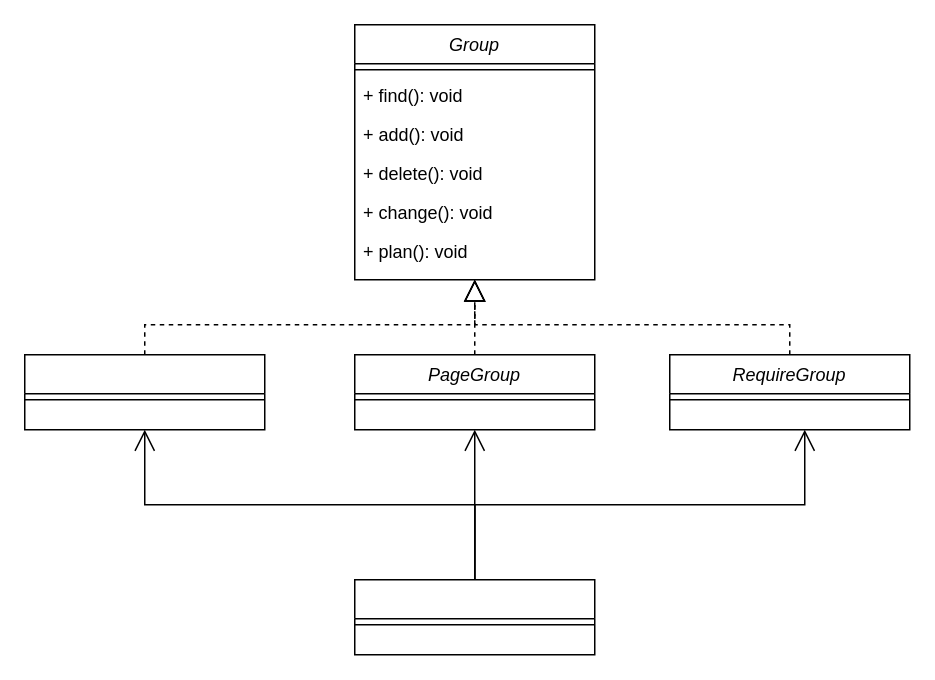
This 935x680 diagram has some shape labels left out. The centre of each missing label's shape, as x and y in pixels:
"Client" goes at pixel 474 616.
"CodeGroup" goes at pixel 144 391.
